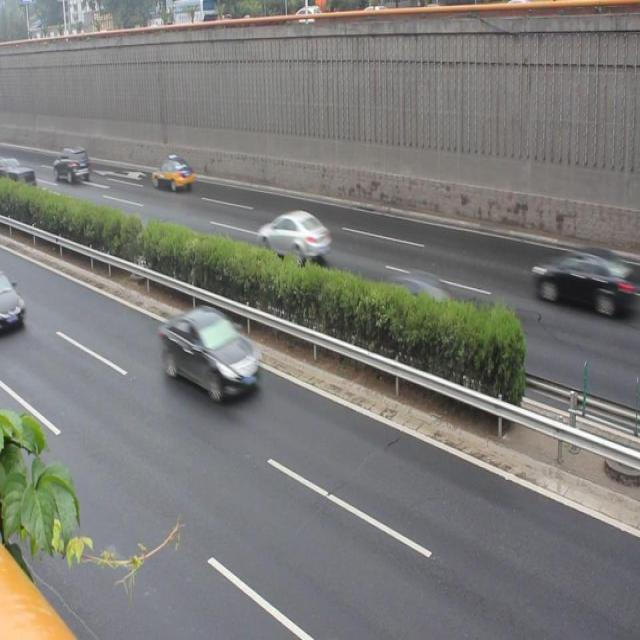car: (156, 298, 265, 411), (527, 237, 622, 321), (372, 254, 458, 340), (252, 198, 329, 271), (1, 267, 32, 341), (151, 150, 193, 196)
